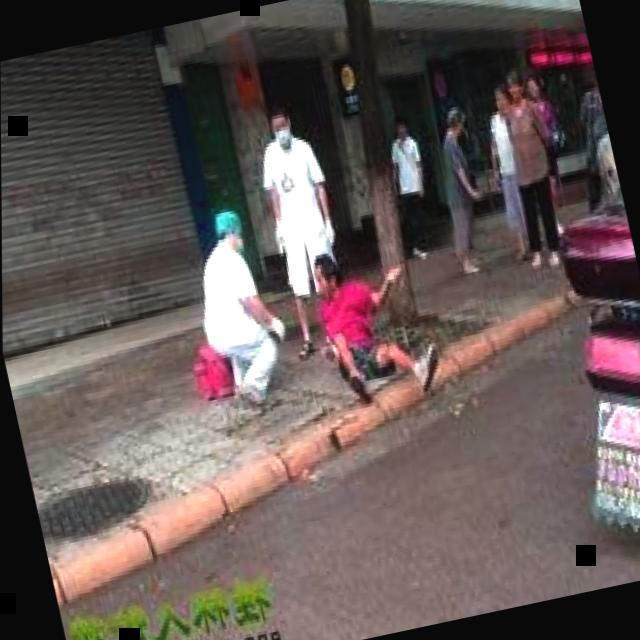Fall-Detected: (294, 222, 444, 402)
